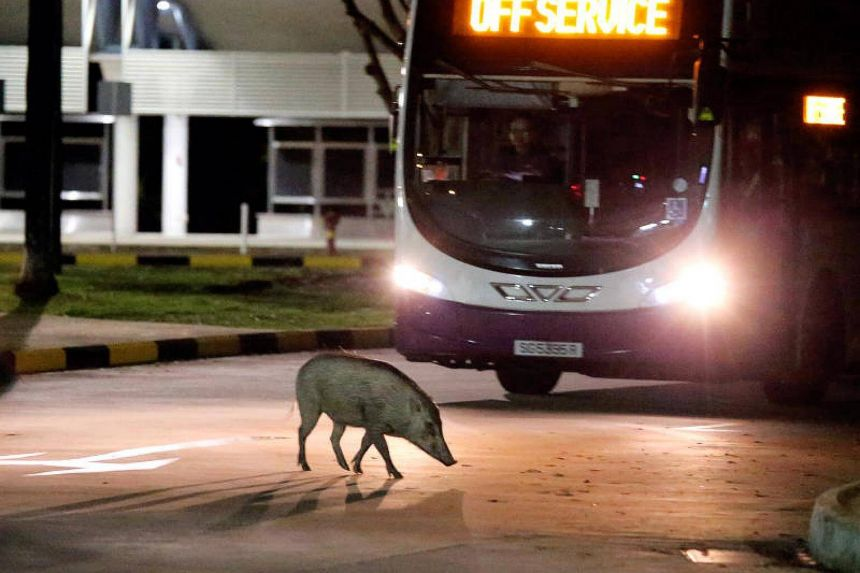boar: (286, 344, 463, 485)
